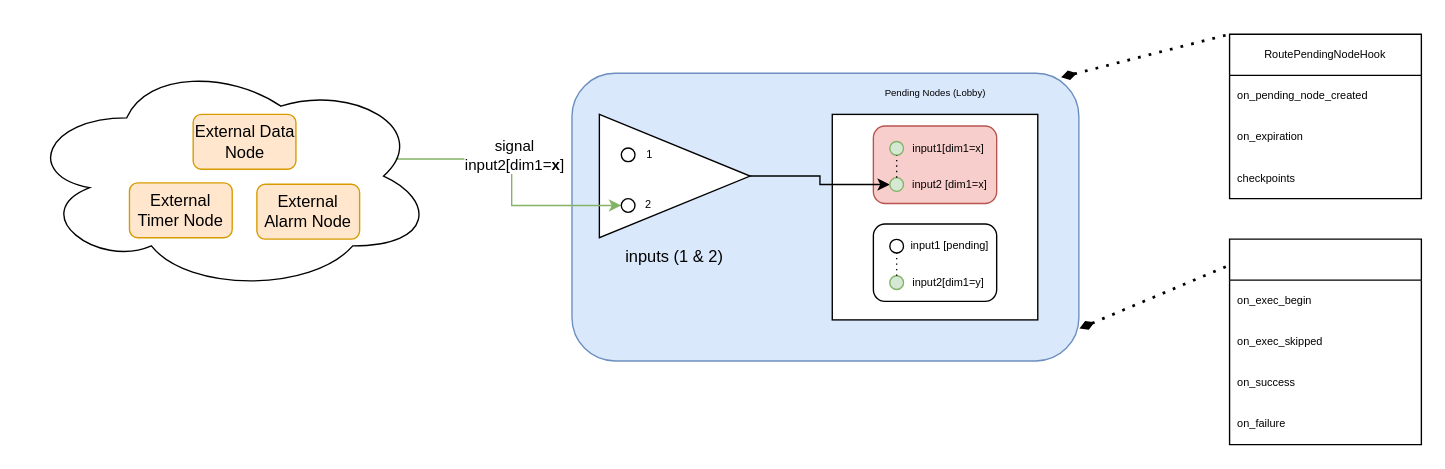
Image size: 1445x469. Some labels were removed from this diagram. The box of each missing label's shape, as (x1, y1, x2, y2) in pixels:
Internal Data Node: (571, 72, 1079, 361)
RouteExecutionHook: (1228, 238, 1421, 445)
